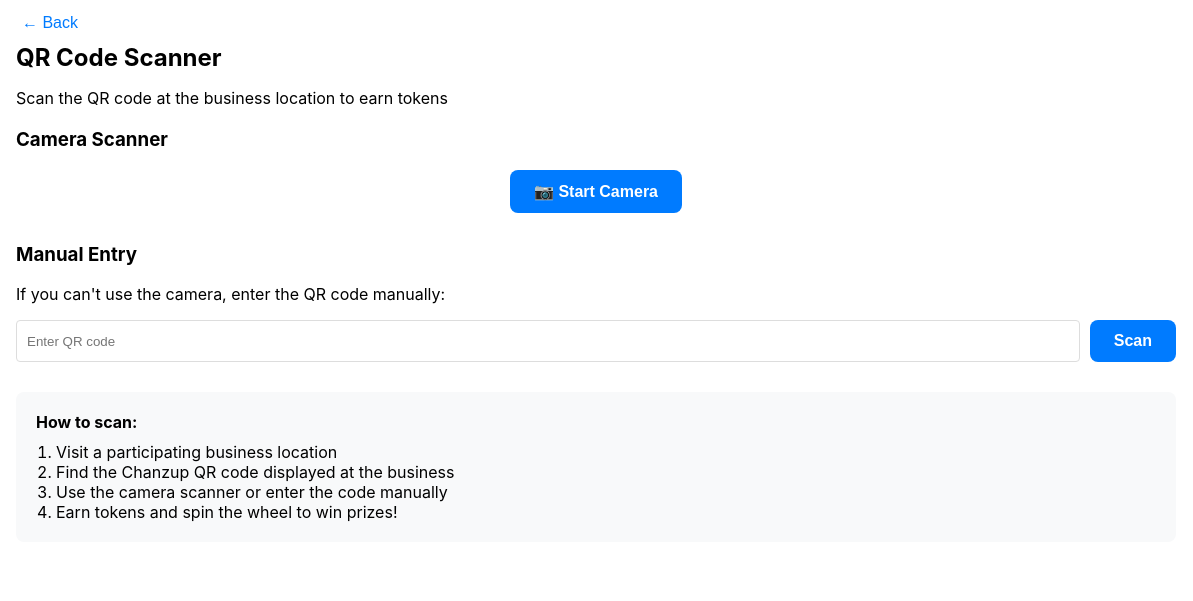
Game Flow Integration Tests › QR Scanning Flow › QR scan error displays error message
Note: Enter invalid QR code
Type "invalid-code" into the field with placeholder "Enter QR code" at [548, 341], box left=16, top=320, right=1080, bottom=362
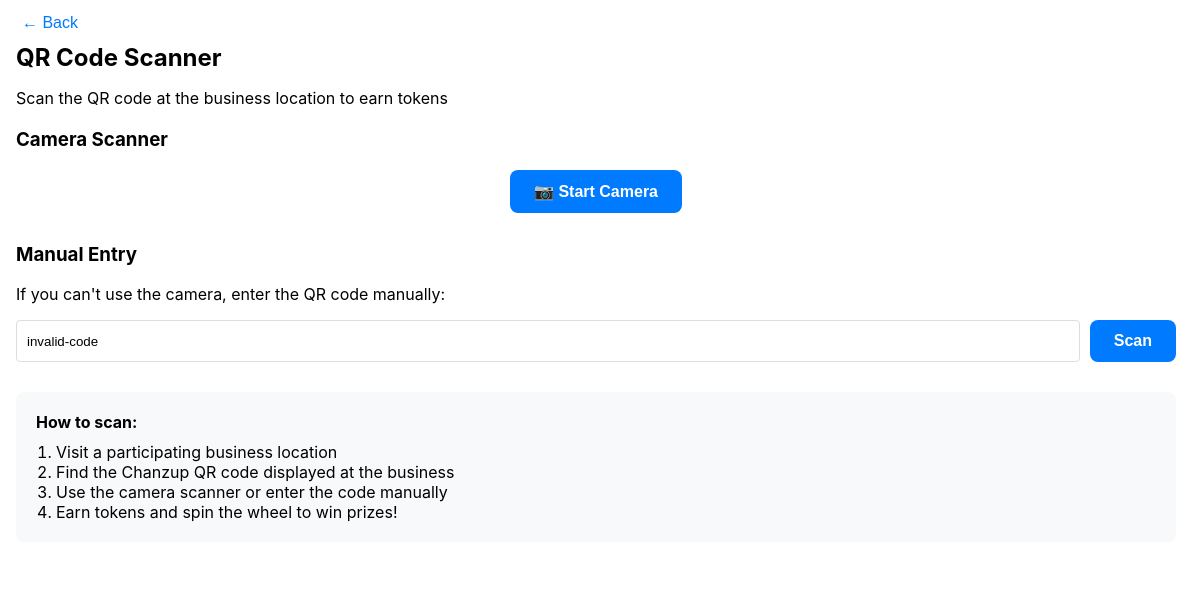
Click the button "Scan" at [1133, 341], box left=1090, top=320, right=1176, bottom=362
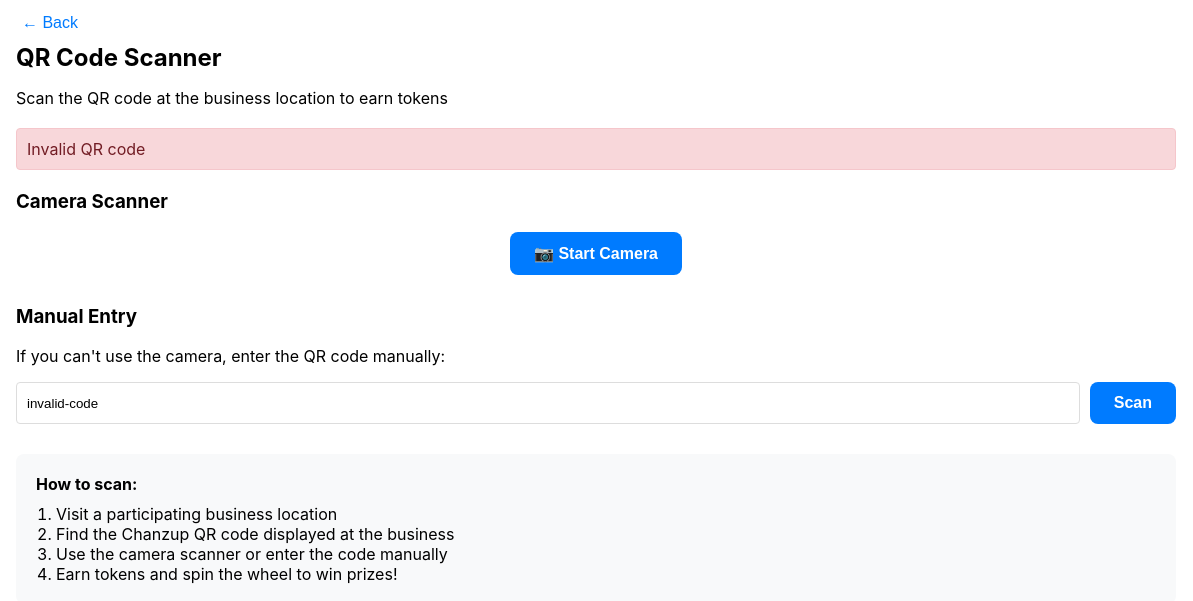
Result: the text "Invalid QR code" is shown at left=16, top=128, right=1176, bottom=170
